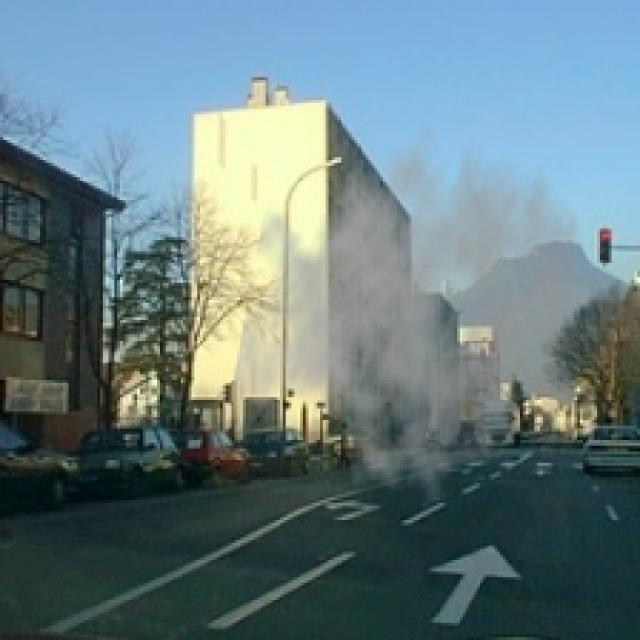Smoke: (228, 102, 586, 508)
